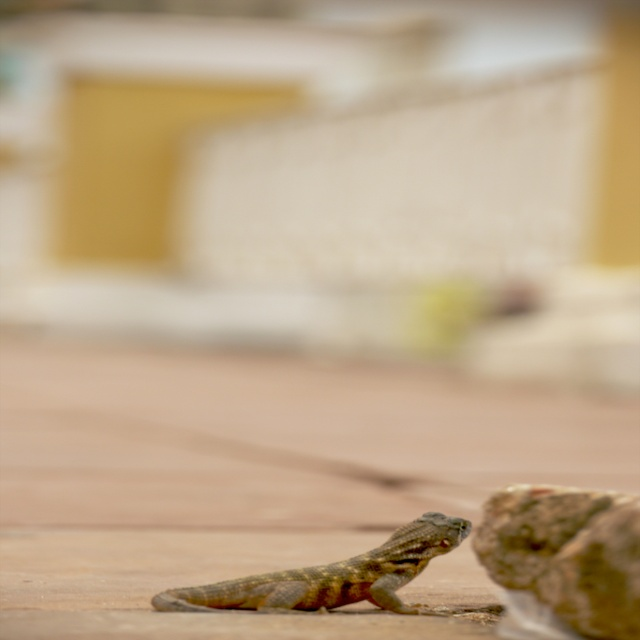Lizard: (156, 513, 468, 612)
